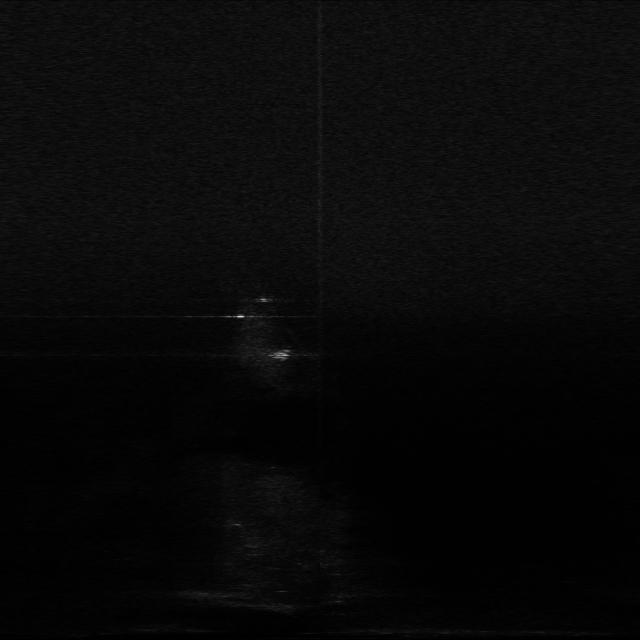rov: (267, 345, 294, 363)
